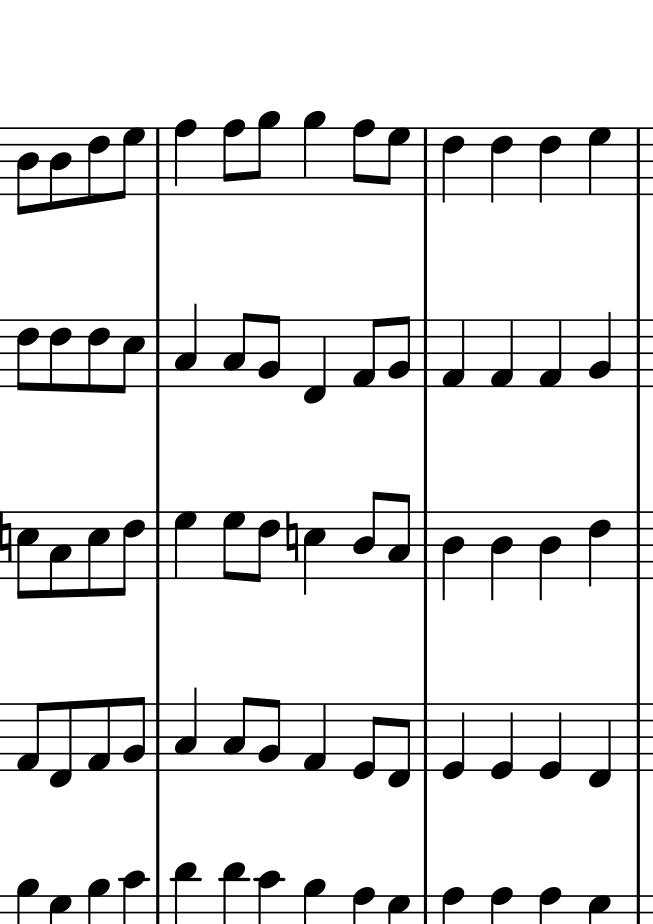4_-1: (301, 317, 328, 407), (586, 701, 613, 790)
4_0: (537, 700, 565, 781), (489, 701, 516, 781), (441, 701, 468, 780)
4_1: (301, 701, 329, 773), (440, 317, 467, 389), (488, 318, 515, 390), (537, 318, 564, 390)
4_2: (587, 310, 614, 389)
4_3: (173, 303, 200, 389), (173, 688, 199, 772)
4_4: (537, 510, 564, 602), (488, 509, 514, 604), (440, 510, 466, 603)
4_6: (586, 510, 612, 587), (439, 126, 464, 205), (537, 126, 562, 205), (489, 126, 513, 205)
4_7: (171, 510, 198, 581), (586, 127, 611, 197)
4_8: (171, 118, 197, 197)
4_9: (302, 109, 326, 197)
8_-1: (47, 700, 74, 790), (386, 702, 412, 790)
8_0: (350, 701, 382, 783)
8_1: (350, 317, 381, 390), (15, 701, 46, 774), (86, 696, 112, 773)
8_2: (121, 695, 147, 773), (257, 313, 282, 390), (387, 314, 412, 389), (257, 698, 281, 773)
8_3: (222, 311, 252, 390), (222, 695, 252, 773), (47, 510, 72, 600), (387, 492, 412, 580)
8_4: (351, 489, 384, 580), (14, 128, 39, 216), (47, 127, 72, 211)
8_5: (114, 317, 146, 394), (84, 510, 110, 599), (14, 509, 39, 600), (301, 509, 326, 597)
8_6: (113, 510, 147, 597), (250, 511, 280, 585), (85, 126, 110, 205), (85, 317, 110, 394), (47, 317, 72, 393), (14, 317, 39, 392)
8_7: (114, 126, 145, 200), (381, 126, 410, 196), (220, 509, 246, 581)
8_8: (221, 118, 245, 197), (351, 118, 375, 197)
8_9: (249, 111, 281, 197)
Natural: (283, 511, 300, 565), (1, 511, 12, 567)
Single_barline: (151, 127, 168, 195), (150, 702, 166, 771), (417, 319, 433, 387), (417, 704, 433, 772), (418, 128, 434, 195), (151, 511, 167, 578), (631, 511, 647, 577), (150, 319, 165, 388), (632, 127, 647, 195), (631, 319, 646, 387), (631, 704, 646, 771), (418, 511, 433, 574)
